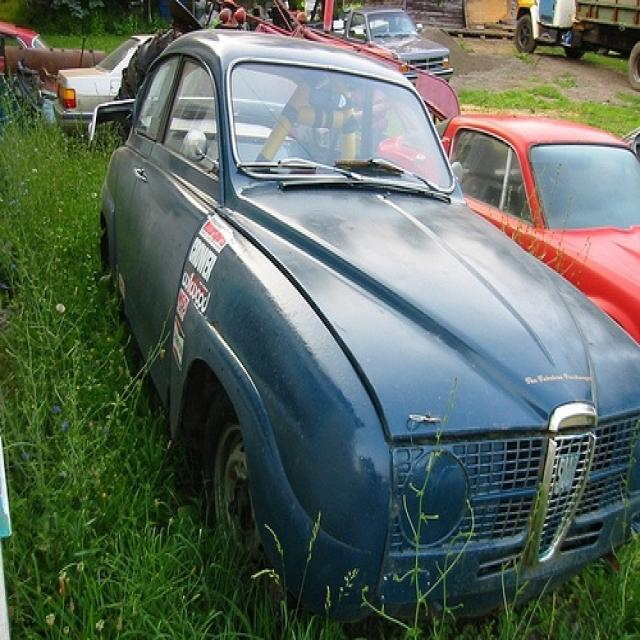car: (100, 26, 639, 620), (376, 111, 639, 345), (55, 32, 166, 132), (311, 10, 451, 80)
